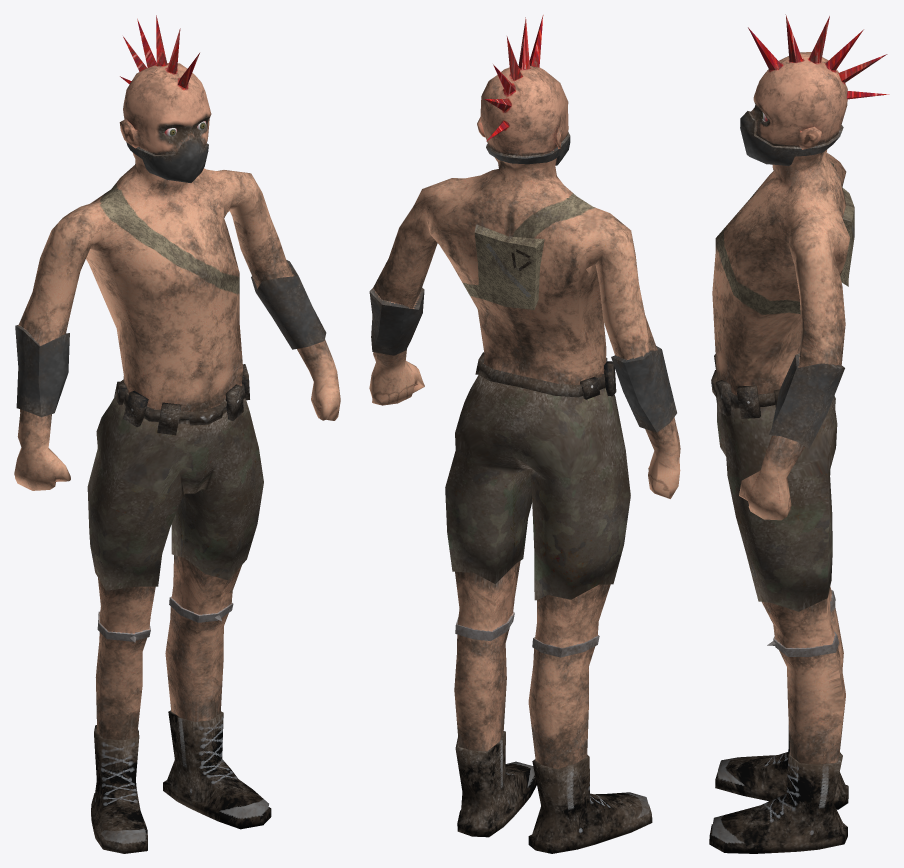
The model's file is Anim_disparar_ametralladora_npc2.0039.obj.
3 views of the same model, side by side, from view 1: azimuth 30°, elevation 25°; view 2: azimuth 150°, elevation 25°; view 3: azimuth 270°, elevation 25° (orthographic). The views are drawn at different scales.
Visible parts, largest first — view 1: polySurface1; view 2: polySurface1; view 3: polySurface1.
Part boxes in pixels (box(x1,y1,x2,y2)): polySurface1: box(14, 15, 340, 853); polySurface1: box(369, 15, 680, 853); polySurface1: box(709, 14, 889, 853).
Bounding box in the file's own units: 4.24 × 10.18 × 2.05.
Materials: 2 (2 with a texture image).
